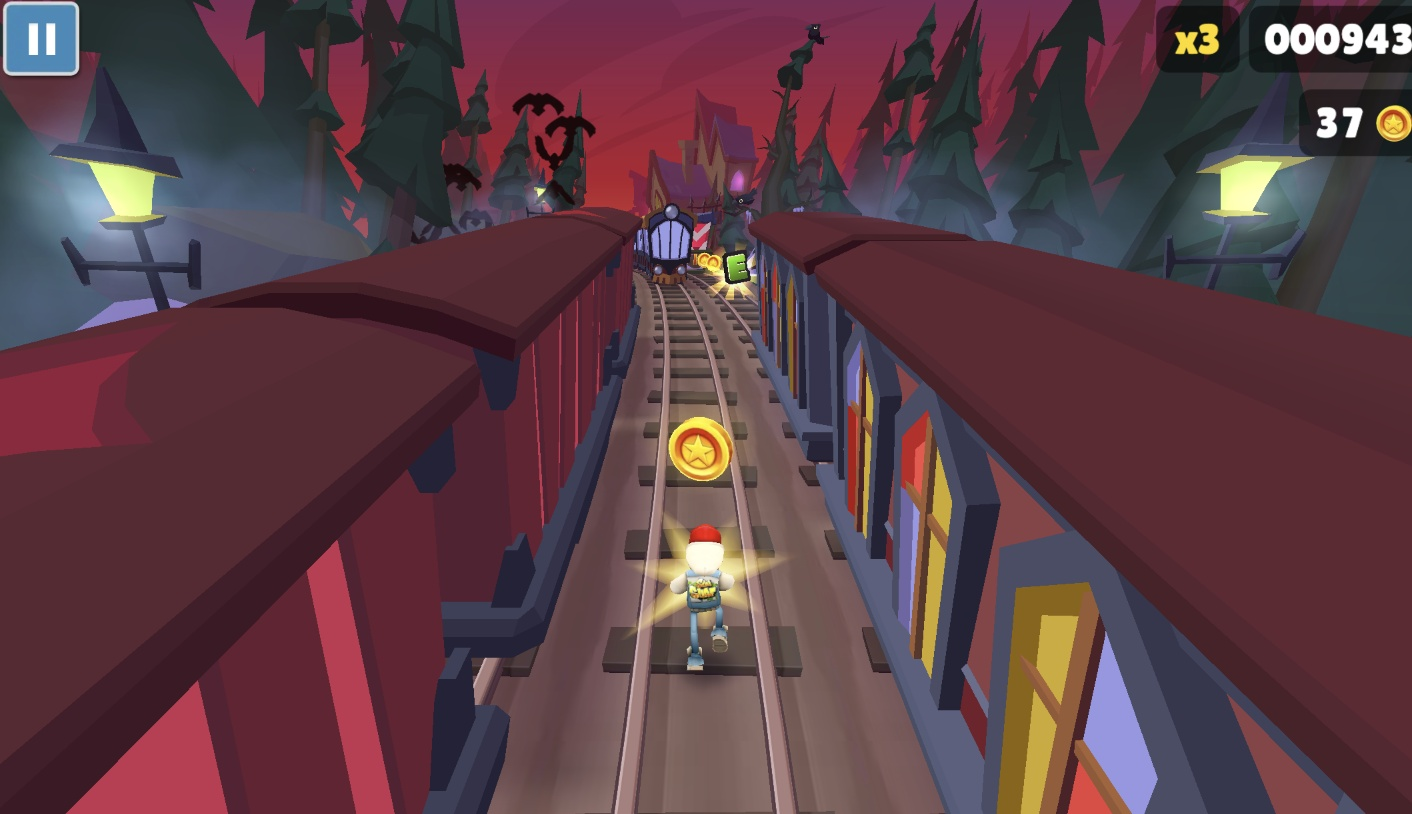overhead_barrier: (690, 213, 716, 265)
train: (0, 211, 635, 814), (772, 230, 1412, 814), (637, 204, 699, 287)
